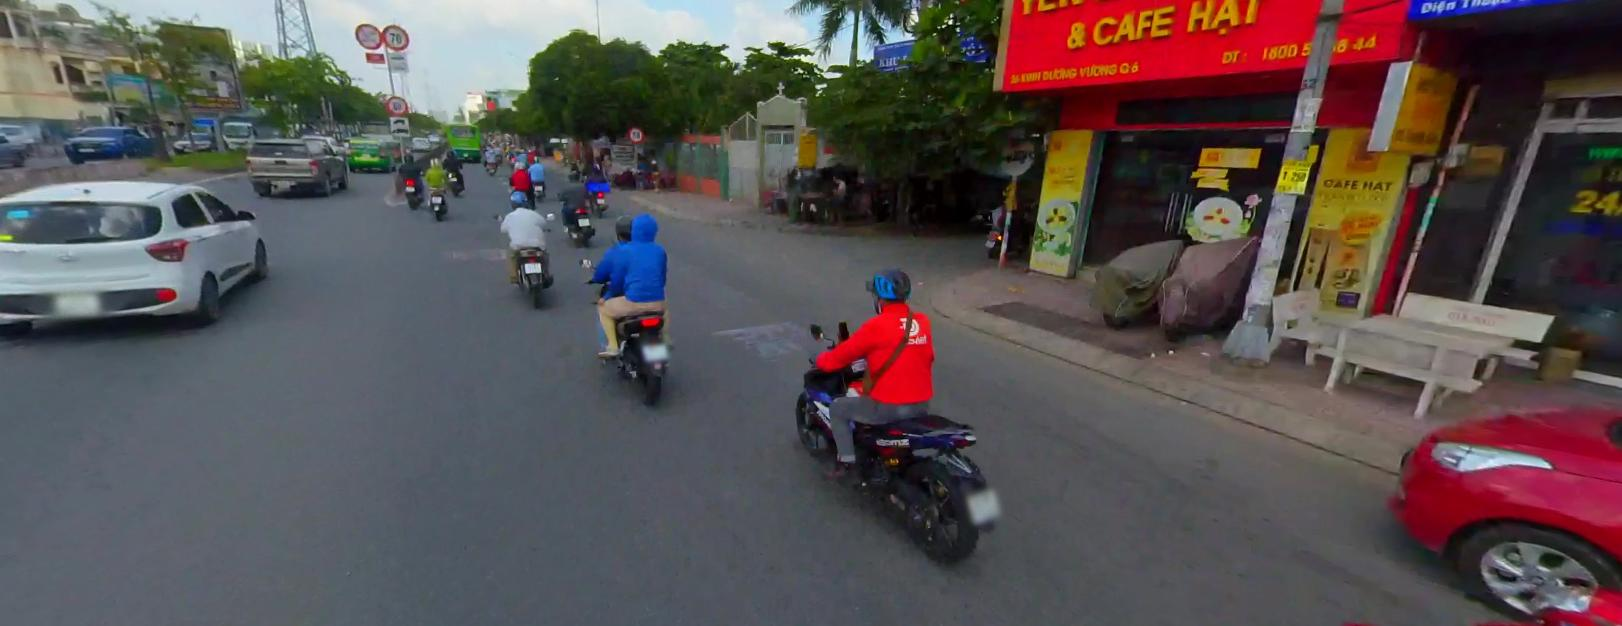Cam con lai: (354, 22, 380, 49)
Gioi han toc do: (382, 23, 409, 50), (386, 95, 408, 114), (628, 125, 645, 142)
